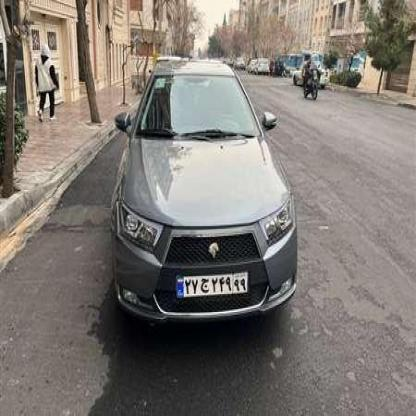Car: (111, 61, 303, 338), (294, 64, 329, 84), (255, 57, 269, 73), (244, 56, 255, 73)
